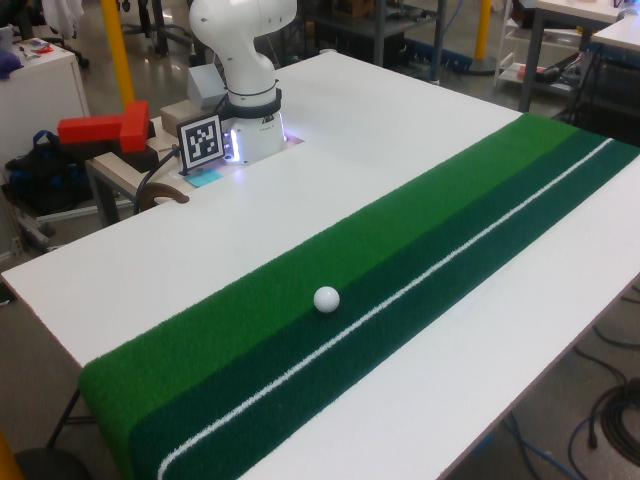golf_balls: (314, 286, 340, 313)
